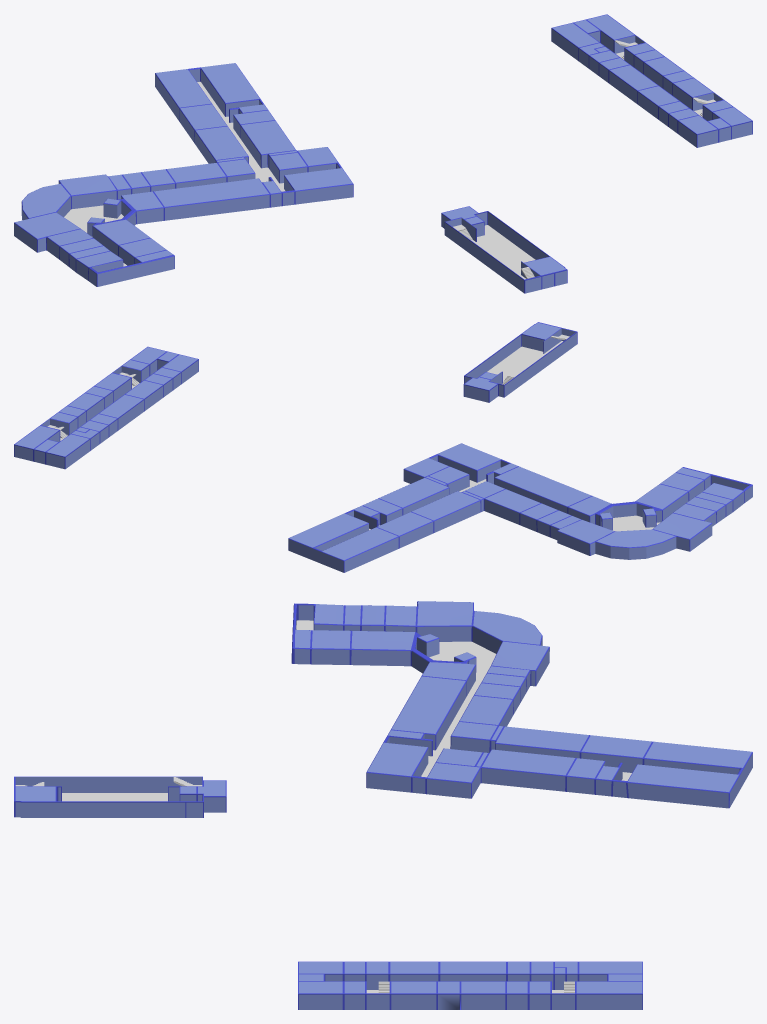
File: dstu-6.glb
The picture shows the model from 3 angles, top to bottom: view 1: azimuth 30°, elevation 25°; view 2: azimuth 150°, elevation 25°; view 3: azimuth 270°, elevation 25°; orthographic projection. The views are drawn at different scales.
Parts seen in each view (by area): view 1: Plane.007, 6, K6; view 2: Plane.007, 6, K6; view 3: Plane.007, 6, K6.
Part boxes in pixels (bbox=[...]): Plane.007: bbox=[14, 63, 353, 286]; 6: bbox=[551, 14, 752, 147]; K6: bbox=[441, 206, 567, 293]; Plane.007: bbox=[288, 443, 752, 572]; 6: bbox=[14, 346, 198, 469]; K6: bbox=[463, 322, 577, 402]; Plane.007: bbox=[291, 601, 752, 808]; 6: bbox=[298, 961, 642, 1009]; K6: bbox=[14, 776, 226, 817].
Bounding box in the file's own units: 155 × 6.13 × 126.
